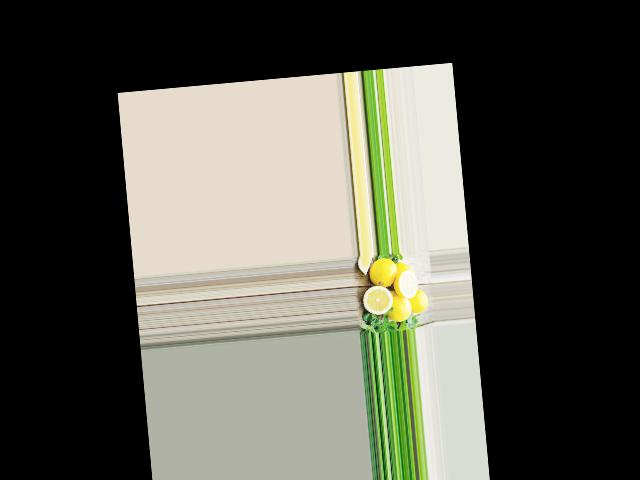lemon: (393, 259, 414, 277)
